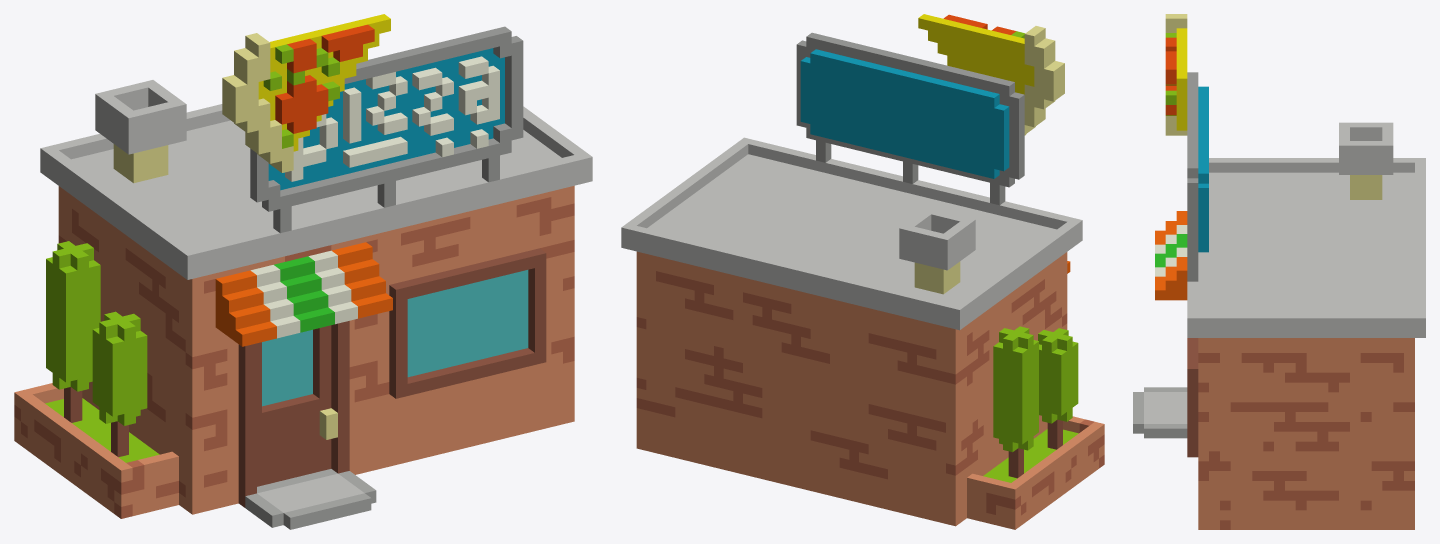
File: Pizza_shop-1-PizzaShop.obj
3 views of the same model, side by side, from view 1: azimuth 30°, elevation 25°; view 2: azimuth 150°, elevation 25°; view 3: azimuth 270°, elevation 25° (orthographic). The views are drawn at different scales.
Visible parts, largest first — view 1: PizzaShop; view 2: PizzaShop; view 3: PizzaShop.
Boxes of the visible parts, bbox=[...] form: PizzaShop: bbox=[14, 14, 592, 529]; PizzaShop: bbox=[621, 14, 1104, 529]; PizzaShop: bbox=[1133, 14, 1425, 529].
Size of the model in its own units: 3.9 by 3.9 by 2.7.
Materials: 1 (1 with a texture image).
